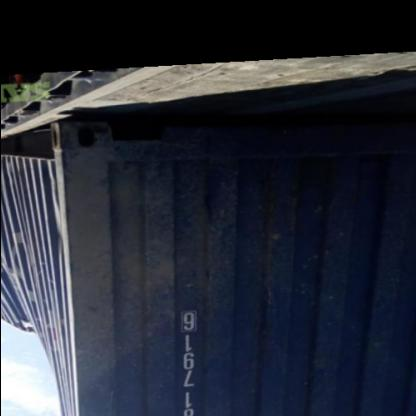Damage: (1, 150, 43, 348), (52, 197, 76, 264)
